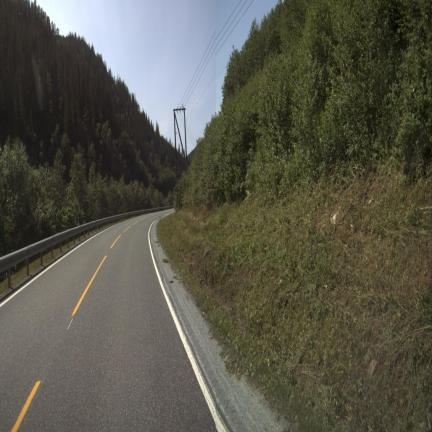Road: (0, 211, 215, 430)
